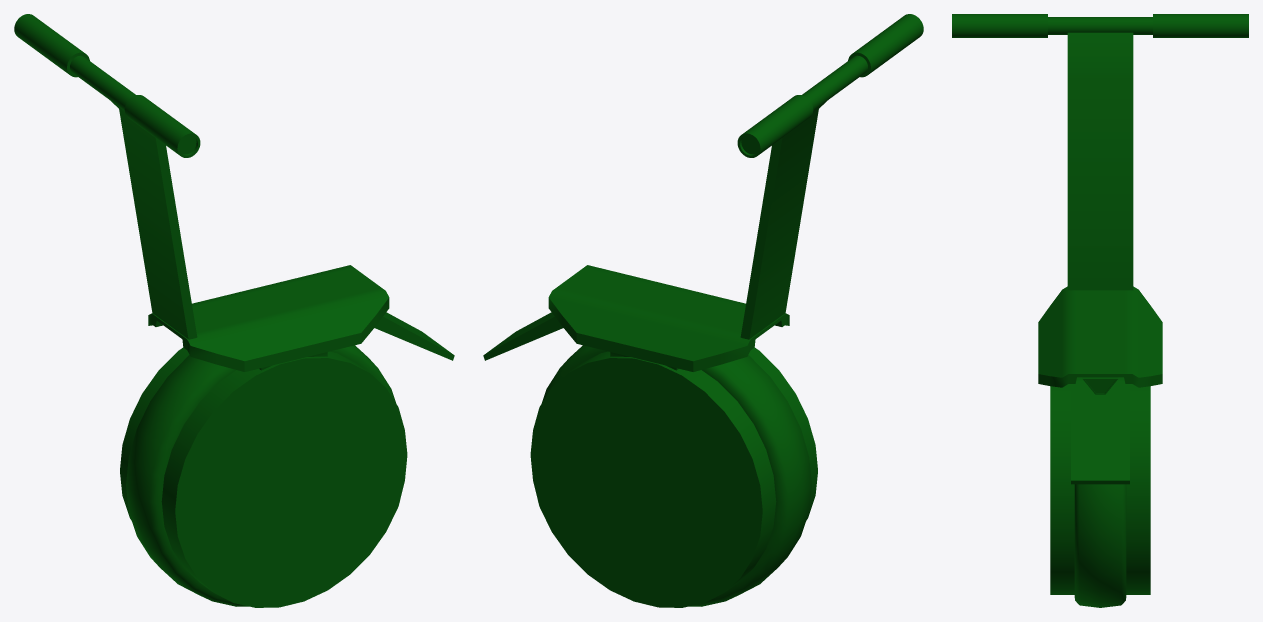
The model's file is scooter.FBX.
3 views of the same model, side by side, from view 1: azimuth 30°, elevation 25°; view 2: azimuth 150°, elevation 25°; view 3: azimuth 270°, elevation 25° (orthographic). The views are drawn at different scales.
Visible parts, largest first — view 1: scooter_LP; view 2: scooter_LP; view 3: scooter_LP.
Boxes of the visible parts, <box> form: scooter_LP: <box>14,14,454,607</box>; scooter_LP: <box>483,14,923,607</box>; scooter_LP: <box>952,14,1248,607</box>.
Size of the model in its own units: 78.79 by 123 by 65.
